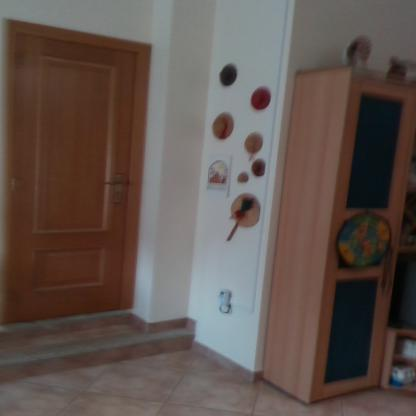door: (13, 35, 135, 311)
hinged: (14, 52, 22, 71), (6, 288, 14, 304), (10, 178, 16, 192)
lever: (104, 180, 125, 188)
